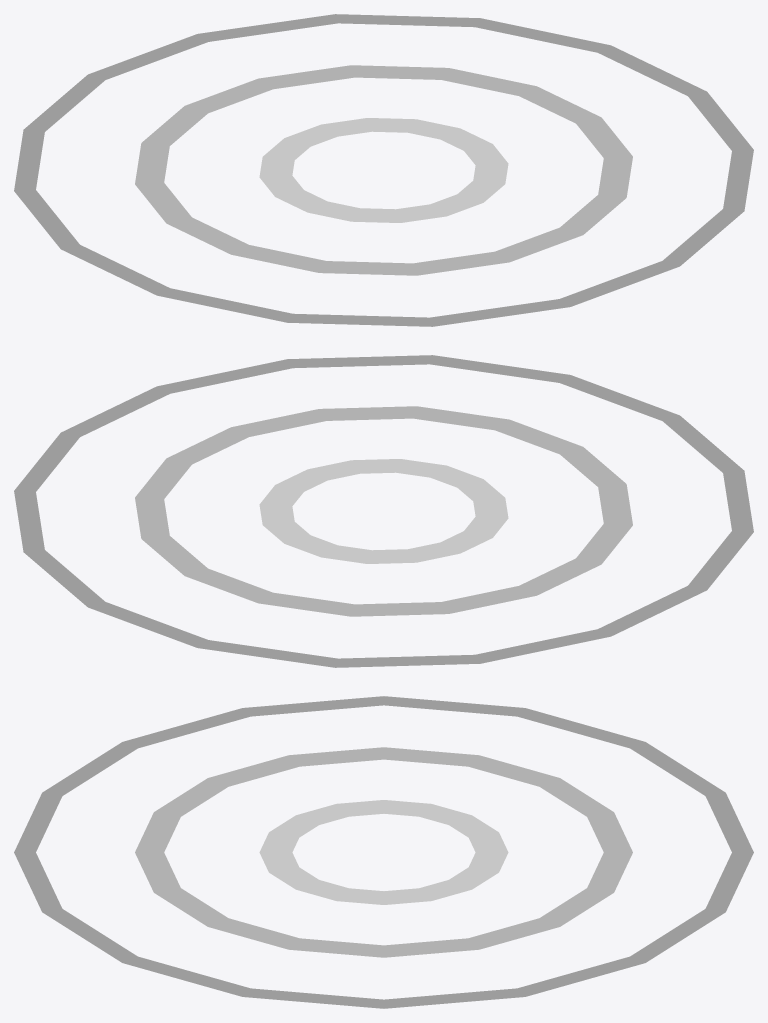
Rendered from fishing_spot.glb.
3 views of the same model, one above another, from view 1: azimuth 30°, elevation 25°; view 2: azimuth 150°, elevation 25°; view 3: azimuth 270°, elevation 25° (orthographic).
Parts seen in each view (by area): view 1: fishing_spot; view 2: fishing_spot; view 3: fishing_spot.
Boxes of the visible parts, box(x1,y1,x2,y2) form: fishing_spot: box(14, 14, 753, 326); fishing_spot: box(14, 355, 753, 667); fishing_spot: box(14, 696, 753, 1008).
Size of the model in its own units: 2.02 by 0 by 2.02.
1 material, 1 textured.
